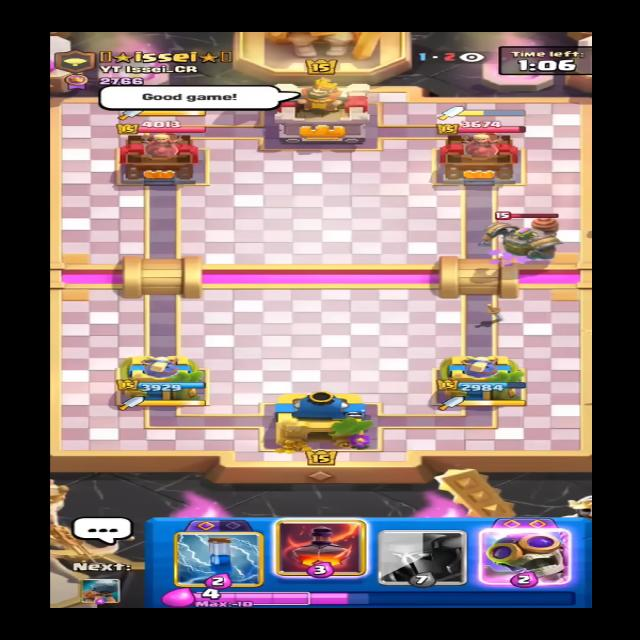goblin-machine: (478, 206, 566, 262)
